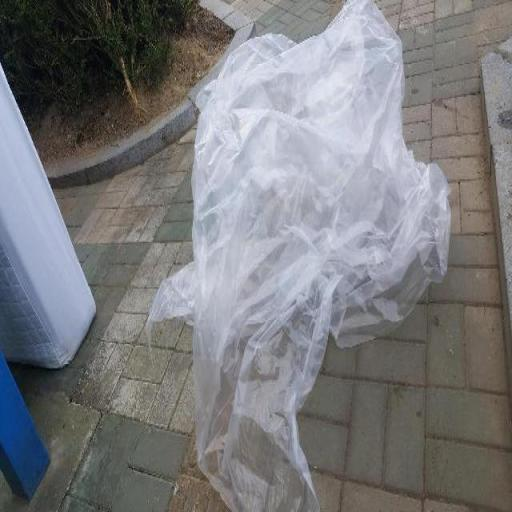plastic-bag: (144, 2, 454, 512)
